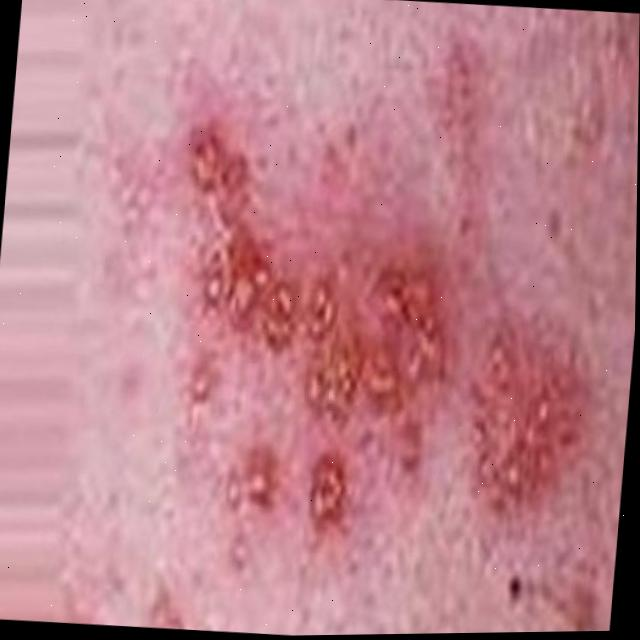Shingles: (151, 123, 604, 552)
